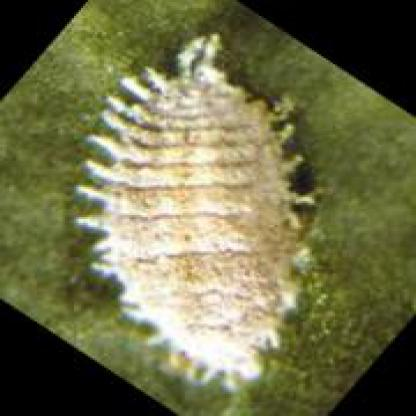mealy bug: (98, 36, 309, 391)
